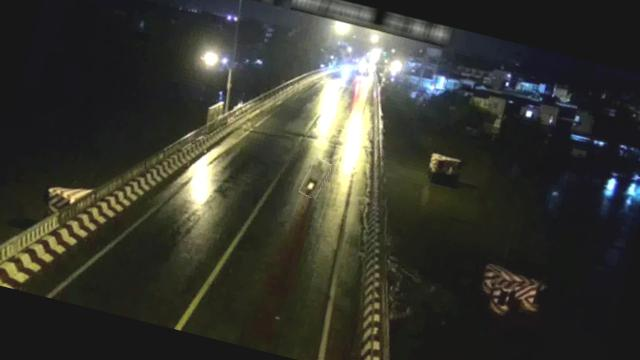Bike: (301, 156, 332, 200)
